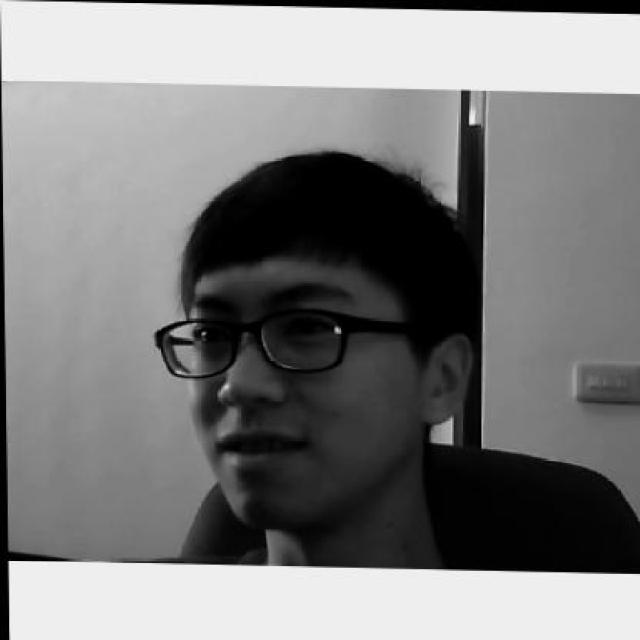attentif: (150, 141, 476, 534)
